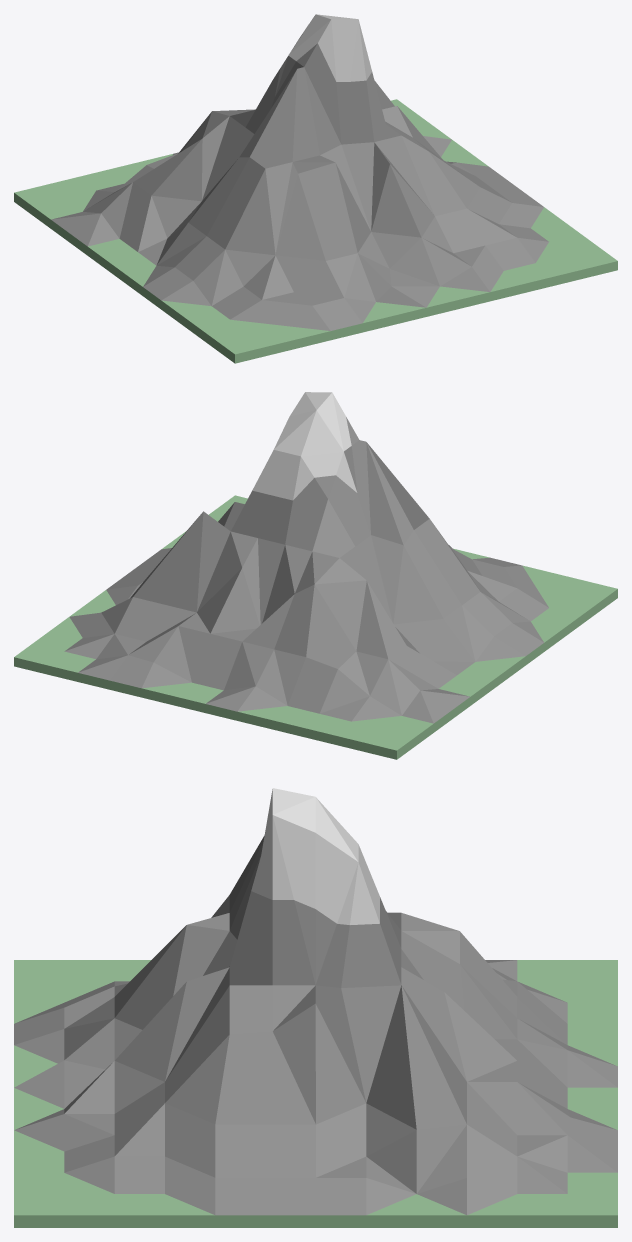
Rendered from Mountain I.fbx.
The picture shows the model from 3 angles, top to bottom: view 1: azimuth 30°, elevation 25°; view 2: azimuth 150°, elevation 25°; view 3: azimuth 270°, elevation 25°; orthographic projection. The views are drawn at different scales.
Visible parts, largest first — view 1: Mountain I; view 2: Mountain I; view 3: Mountain I.
Boxes of the visible parts, x1=… form: Mountain I: x1=14, y1=14, x2=617, y2=363; Mountain I: x1=14, y1=392, x2=617, y2=759; Mountain I: x1=14, y1=788, x2=617, y2=1227.
Size of the model in its own units: 1603 by 914 by 1603.
